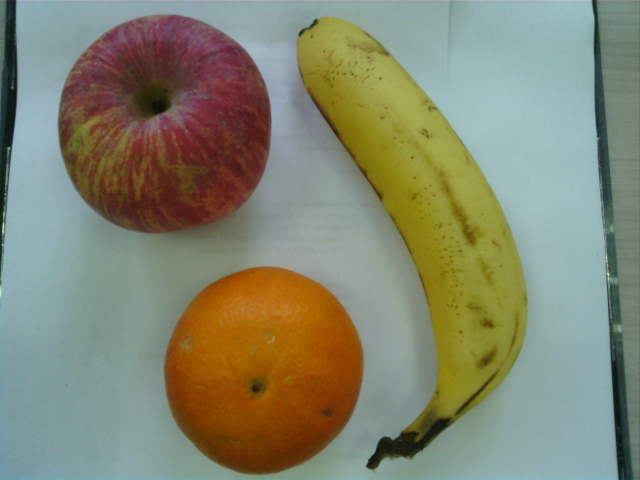normal_apple: (58, 15, 271, 233)
normal_banana: (298, 16, 532, 425)
normal_orange: (165, 265, 367, 478)
